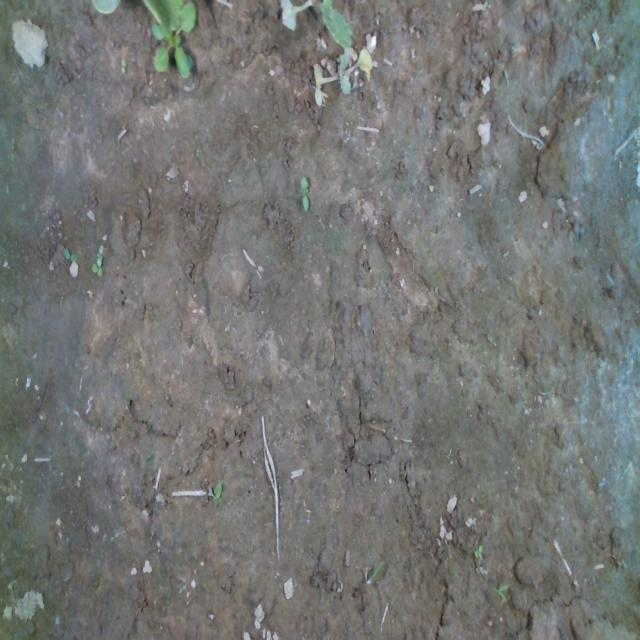weed: (296, 172, 310, 210), (62, 242, 80, 266), (472, 541, 486, 559), (117, 56, 127, 75), (178, 580, 188, 596)
